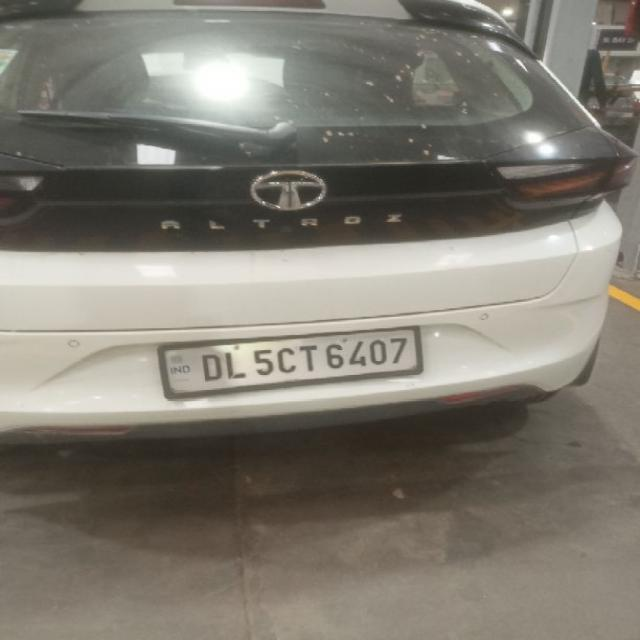license_plate: (156, 325, 424, 399)
